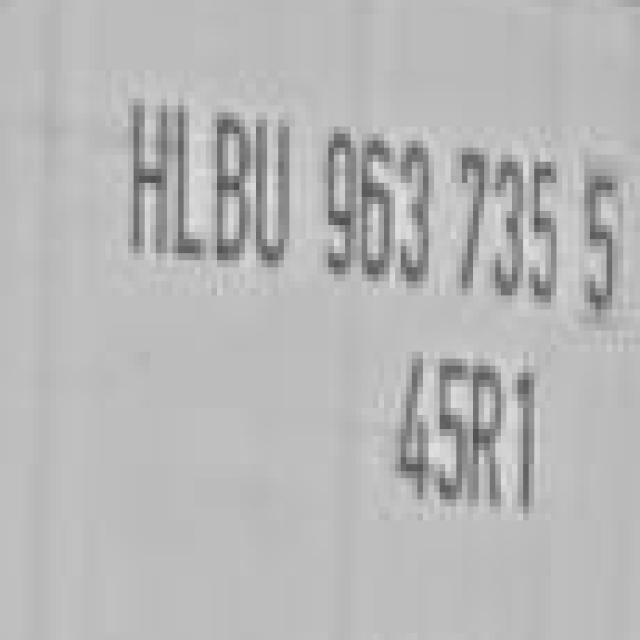dv: (573, 147, 640, 330)
owner: (117, 89, 300, 282)
serial: (318, 118, 560, 317)
size: (376, 346, 551, 526)
